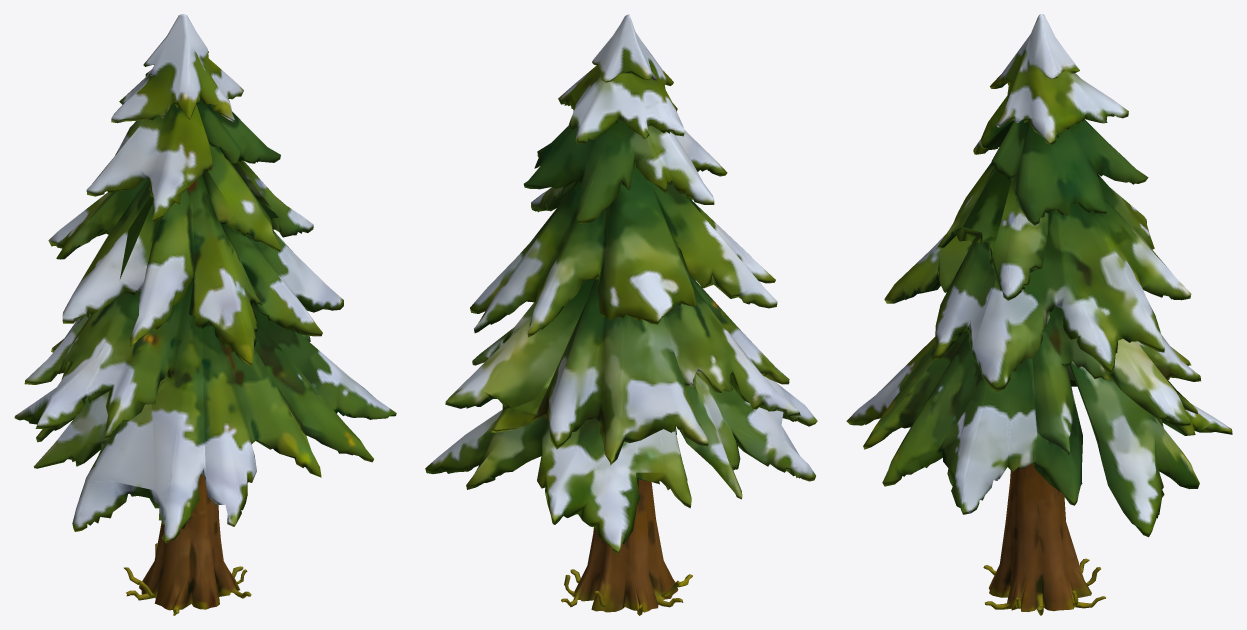
File: TREE_meshy_pine.glb
3 views of the same model, side by side, from view 1: azimuth 30°, elevation 25°; view 2: azimuth 150°, elevation 25°; view 3: azimuth 270°, elevation 25° (orthographic).
Parts seen in each view (by area): view 1: geometry_0; view 2: geometry_0; view 3: geometry_0.
Part boxes in pixels (bbox=[...]): geometry_0: bbox=[14, 14, 396, 615]; geometry_0: bbox=[425, 14, 817, 615]; geometry_0: bbox=[846, 14, 1232, 615].
Bounding box in the file's own units: 0.5742 × 0.9512 × 0.5767.
1 material, 1 textured.
